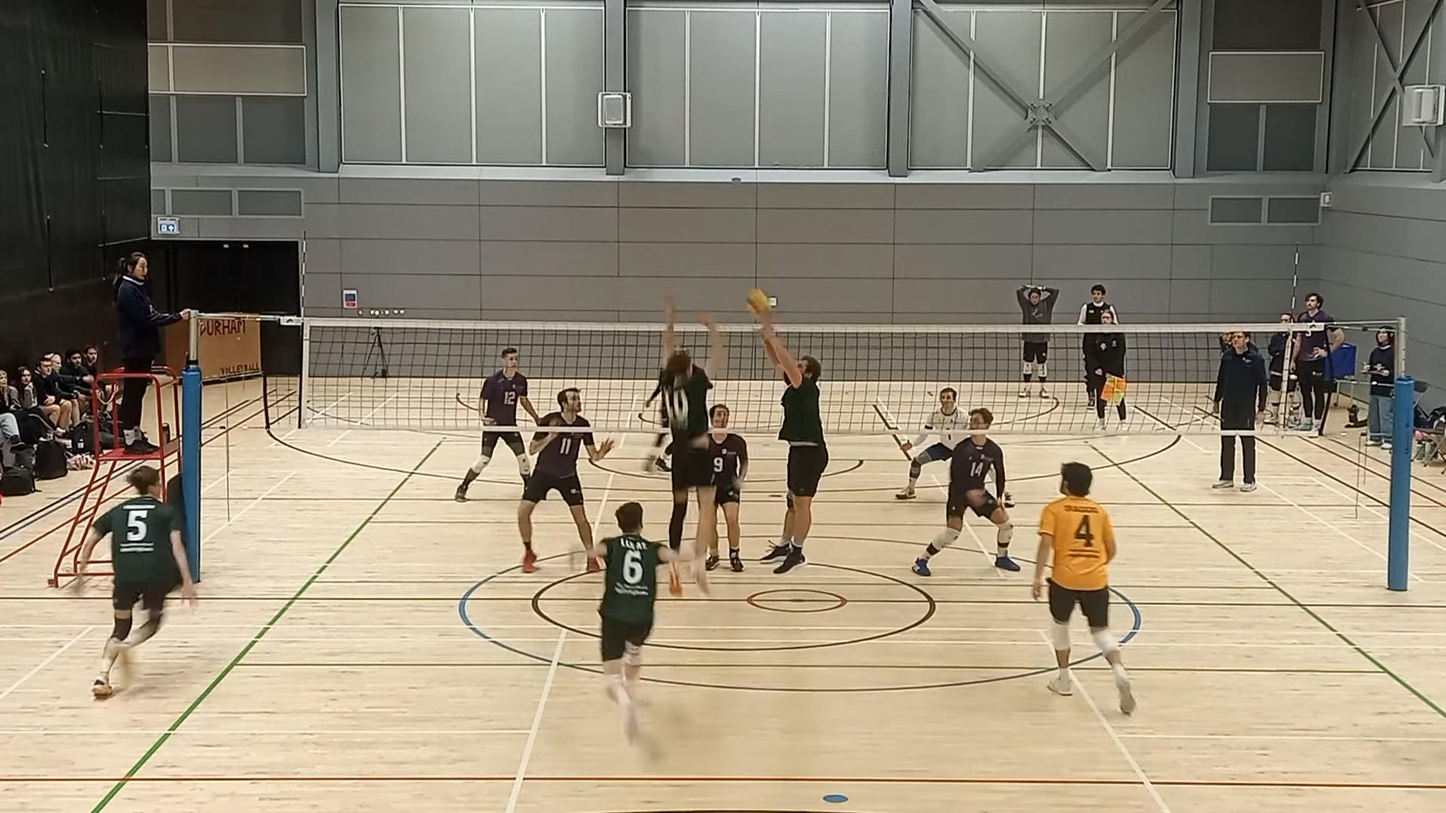alzata: (757, 316, 826, 579)
